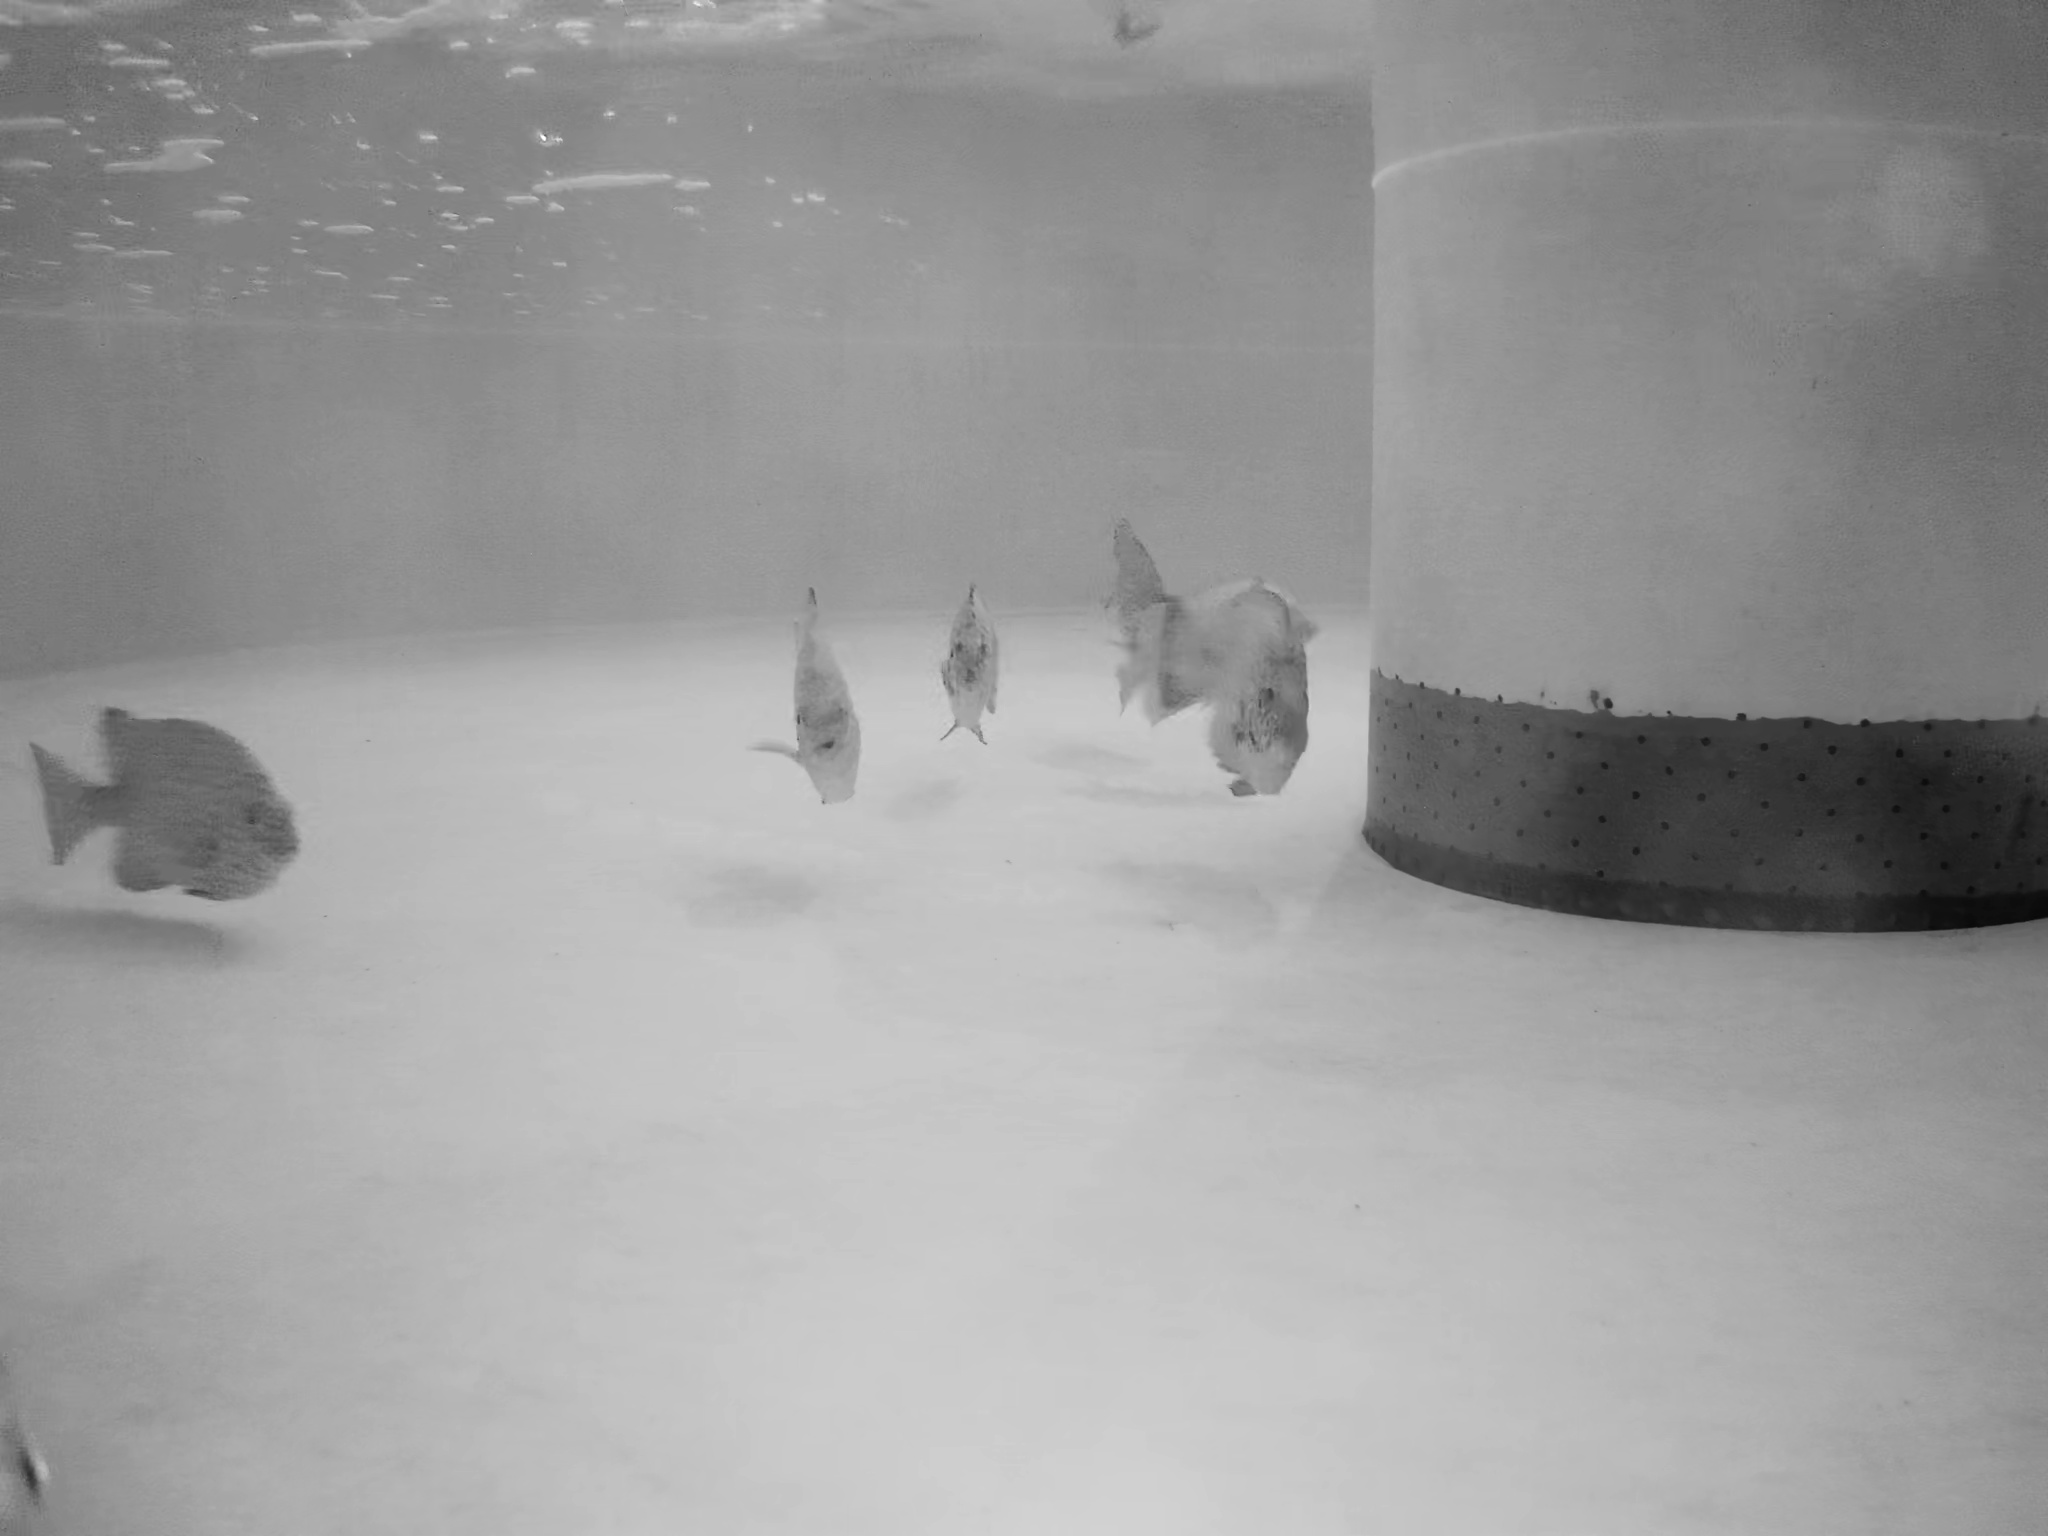fish: (34, 715, 297, 915), (1118, 574, 1324, 716), (1218, 591, 1317, 803), (769, 595, 871, 802), (939, 568, 1011, 742), (1113, 529, 1187, 692)
